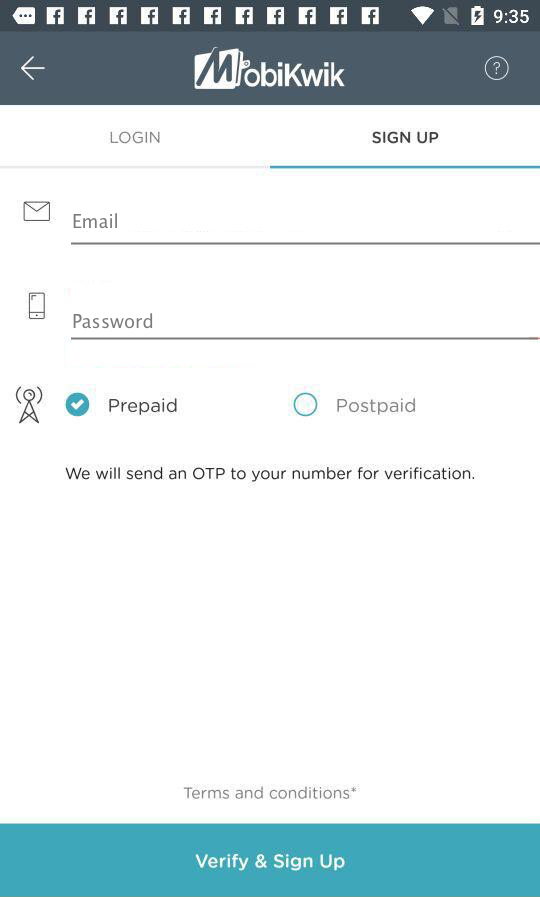CheckedTextView: (293, 393, 417, 418), (66, 392, 180, 418)
EditText: (71, 213, 540, 246), (71, 313, 540, 341)
Icon: (21, 56, 47, 82), (484, 56, 510, 82), (23, 201, 52, 222)
Image: (194, 46, 345, 91), (16, 385, 44, 425), (29, 292, 47, 321)
Text: (65, 466, 475, 483), (184, 785, 357, 801), (336, 397, 416, 416), (109, 397, 179, 416), (73, 313, 153, 329), (372, 132, 439, 145), (110, 131, 162, 145), (73, 213, 118, 229)
TextButton: (1, 824, 540, 897)
UpperTaskBar: (1, 1, 540, 33)
